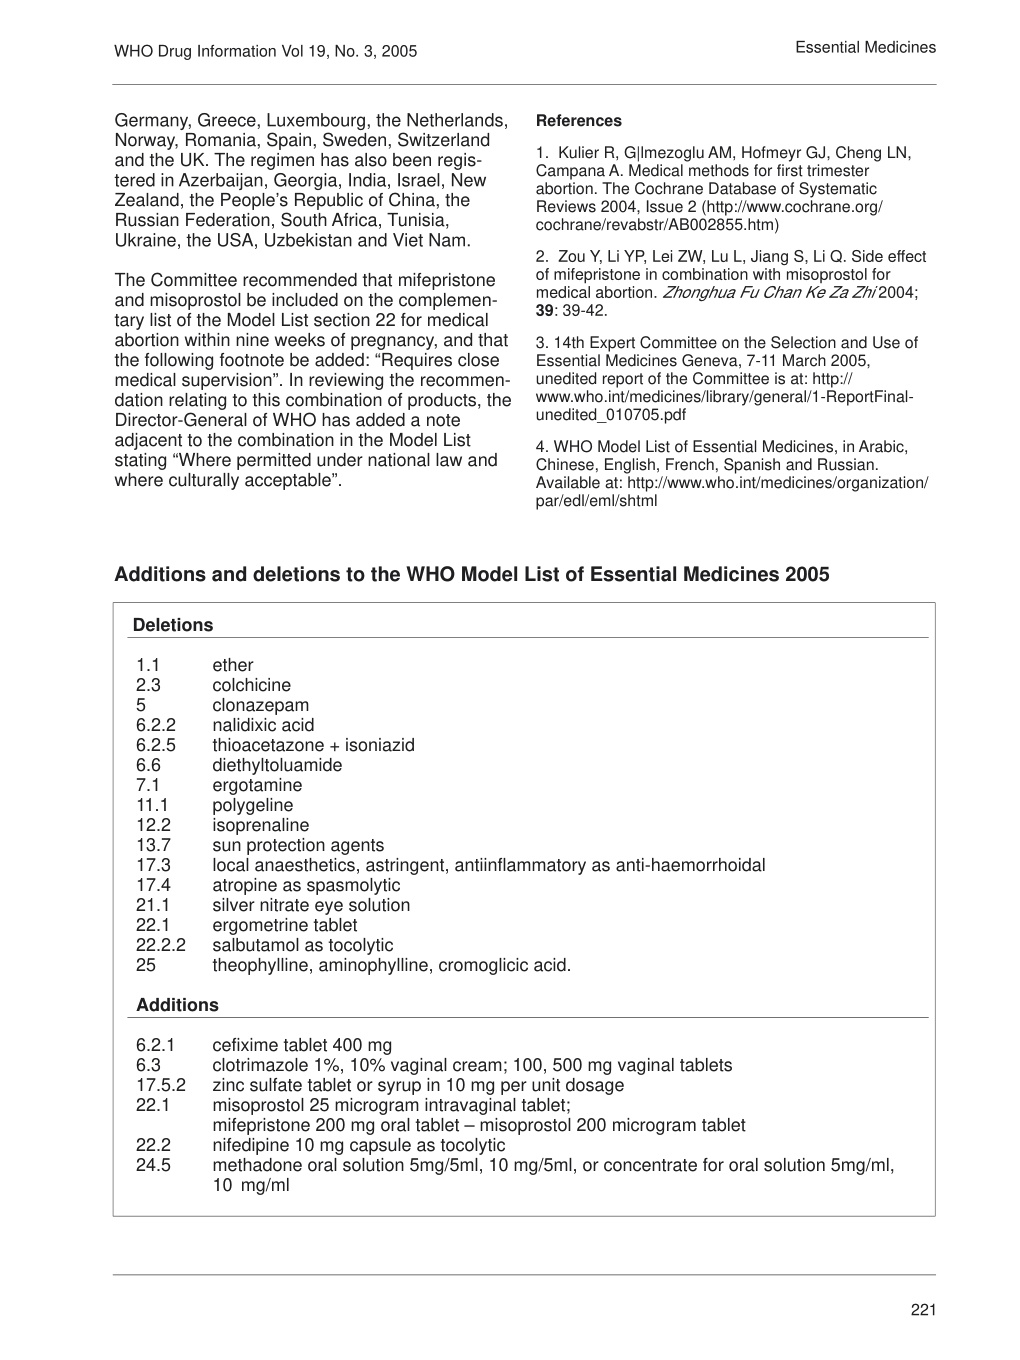partial_lined_merged_cells: (112, 601, 937, 1218)
